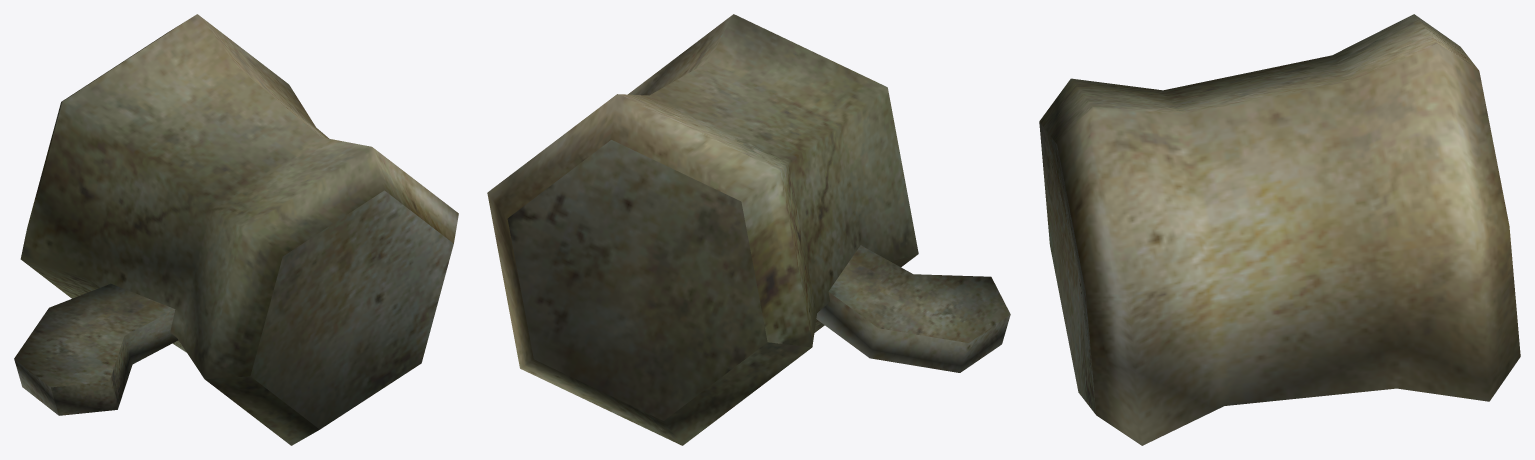
The model's file is bone_whale_piece_ver04.fbx.
3 views of the same model, side by side, from view 1: azimuth 30°, elevation 25°; view 2: azimuth 150°, elevation 25°; view 3: azimuth 270°, elevation 25° (orthographic). The views are drawn at different scales.
Visible parts, largest first — view 1: bone_whale_piece_ver04; view 2: bone_whale_piece_ver04; view 3: bone_whale_piece_ver04.
Part boxes in pixels (<box>): bone_whale_piece_ver04: <box>14,14,458,445</box>; bone_whale_piece_ver04: <box>487,14,1010,445</box>; bone_whale_piece_ver04: <box>1039,14,1520,445</box>.
Bounding box in the file's own units: 2.71 × 2.15 × 2.37.
